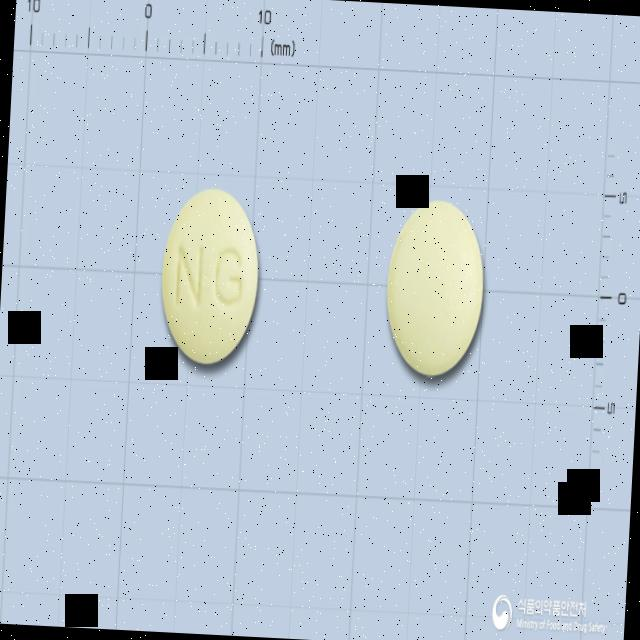Nevolaxin Tablet: (156, 186, 264, 370)
